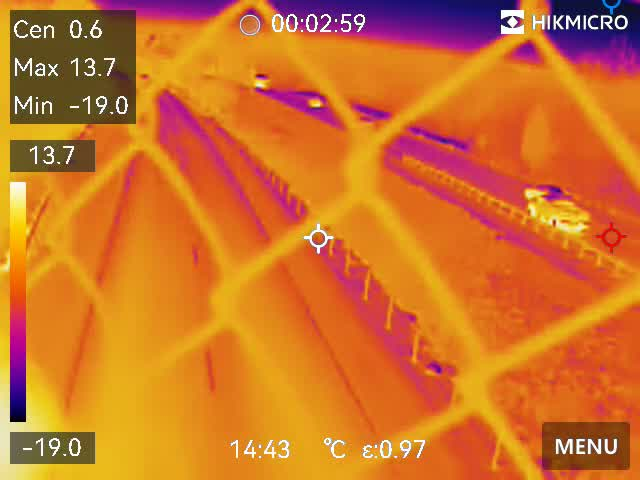smallCar: (522, 195, 591, 233)
vehicle: (521, 180, 568, 200), (304, 94, 340, 112)
